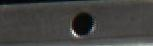holes: (69, 11, 97, 38)
